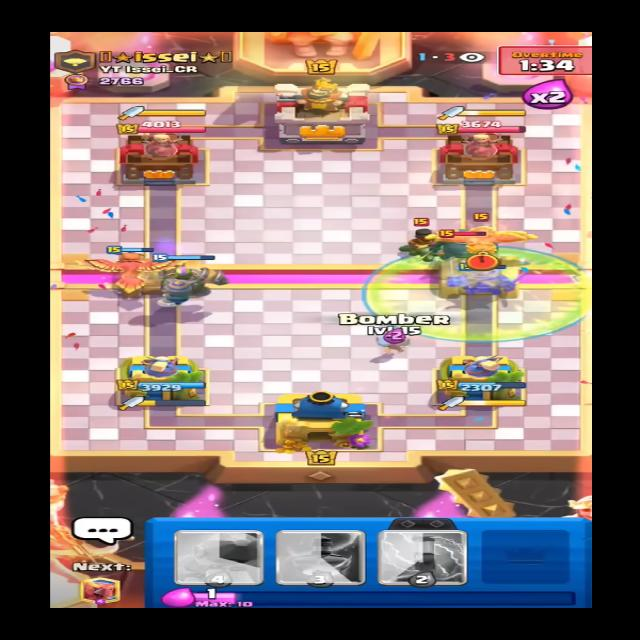Pekka: (422, 224, 505, 260)
Pheonix: (423, 211, 541, 252)
Ramrider: (394, 220, 454, 257)
